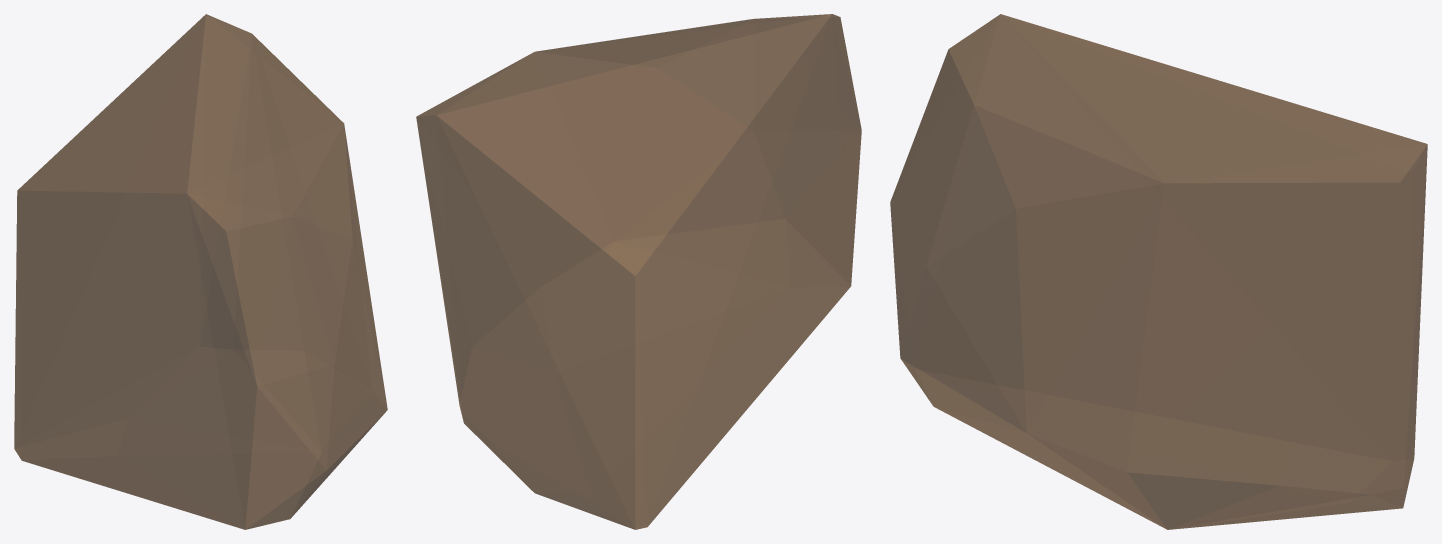
3 views of the same model, side by side, from view 1: azimuth 30°, elevation 25°; view 2: azimuth 150°, elevation 25°; view 3: azimuth 270°, elevation 25° (orthographic). The views are drawn at different scales.
Parts seen in each view (by area): view 1: Shape_IndexedFaceSet.021_Shape_IndexedFaceSet.10424; view 2: Shape_IndexedFaceSet.021_Shape_IndexedFaceSet.10424; view 3: Shape_IndexedFaceSet.021_Shape_IndexedFaceSet.10424.
Part boxes in pixels (x1=…): Shape_IndexedFaceSet.021_Shape_IndexedFaceSet.10424: x1=14, y1=14, x2=387, y2=529; Shape_IndexedFaceSet.021_Shape_IndexedFaceSet.10424: x1=416, y1=14, x2=861, y2=529; Shape_IndexedFaceSet.021_Shape_IndexedFaceSet.10424: x1=890, y1=14, x2=1427, y2=529.
Bounding box in the file's own units: 0.1138 × 0.1767 × 0.1953.
